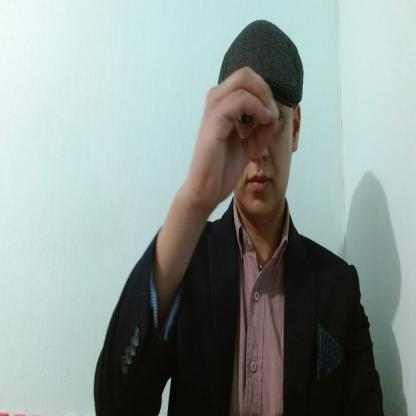O: (190, 62, 280, 211)
